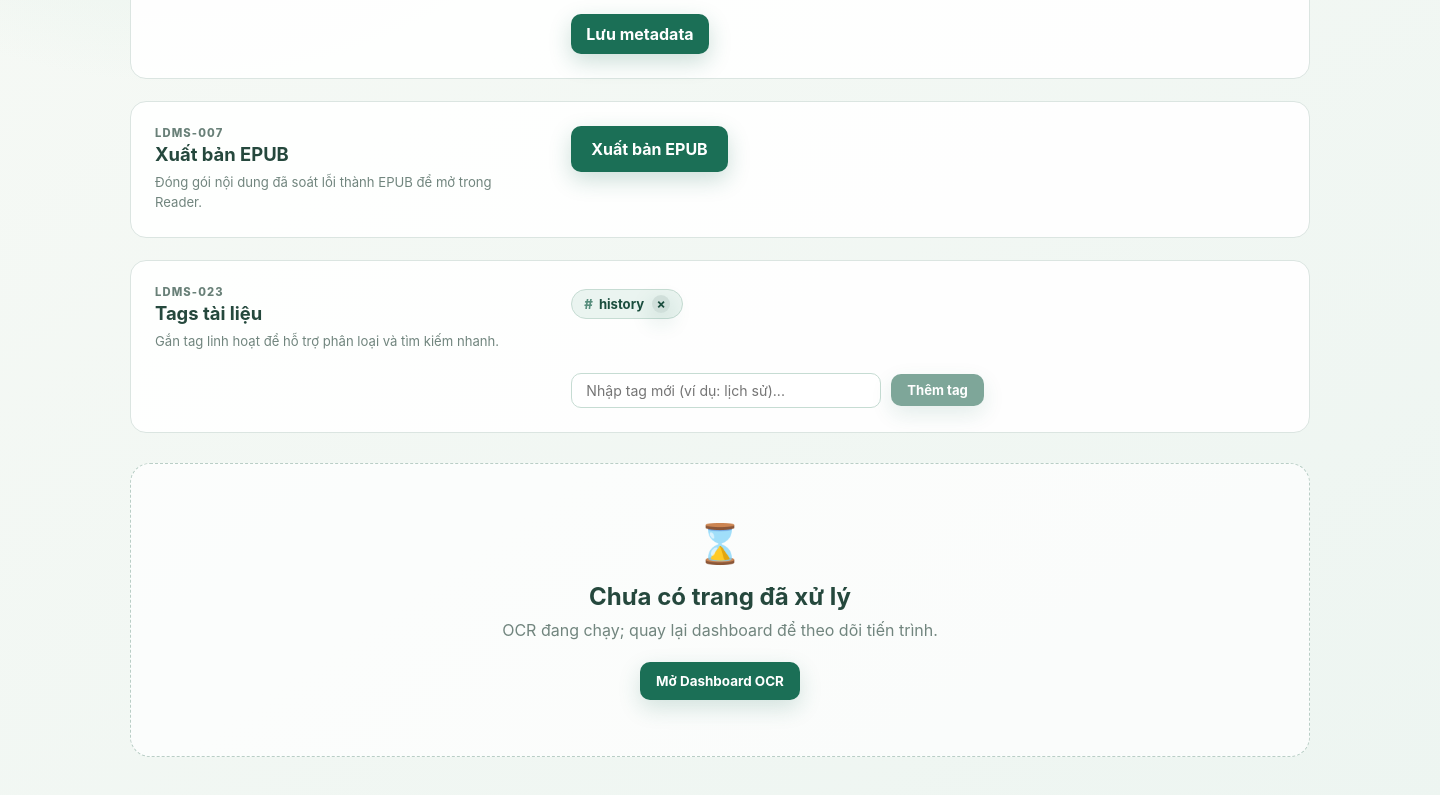
Scenario: DocumentViewerPage › allows adding and removing tags for authorized user (LDMS-023)
The width and height of the screenshot is (1440, 795).
(page scrolled)
Check: the text "history" is shown, box [599,296,644,312]
Type " Science " into the field with placeholder "Nhập tag mới (ví dụ: lịch sử)..." at (726, 390), box [571,373,881,408]
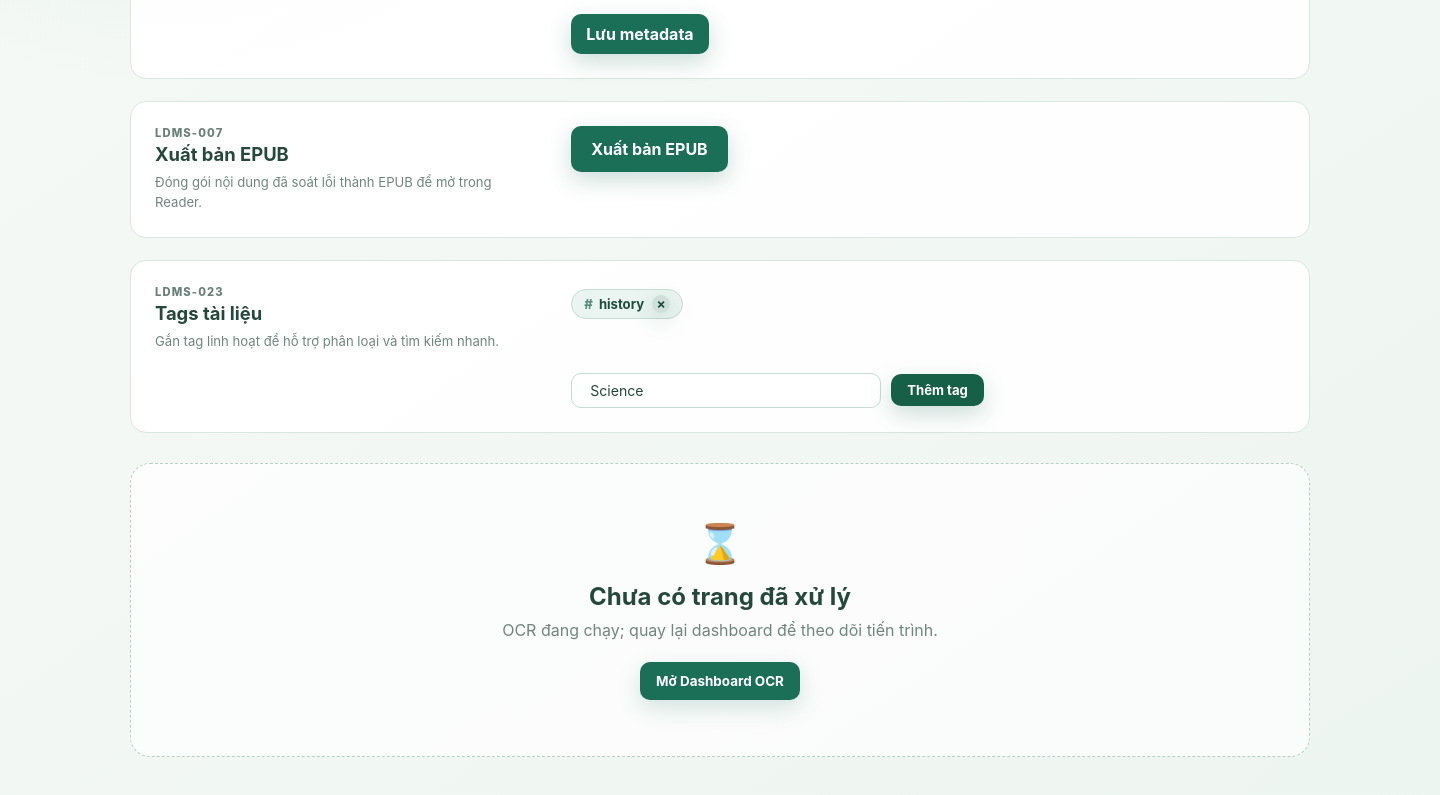
Click the button "Thêm tag" at (938, 390), box [891,374,984,406]
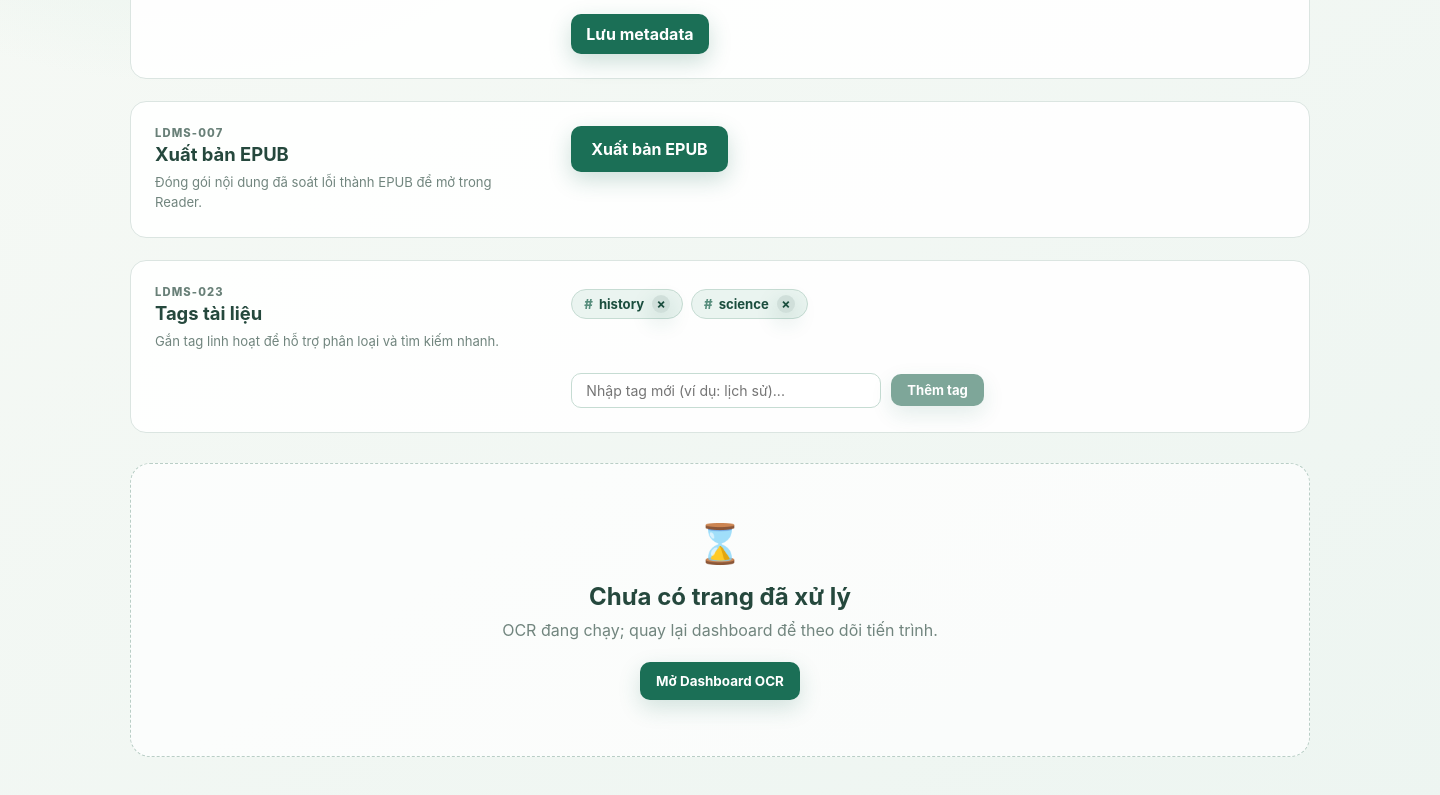
Check: the text "science" is shown, box [719,296,769,312]
Click the button named "Xóa tag history" at (661, 304), box [652,295,670,313]
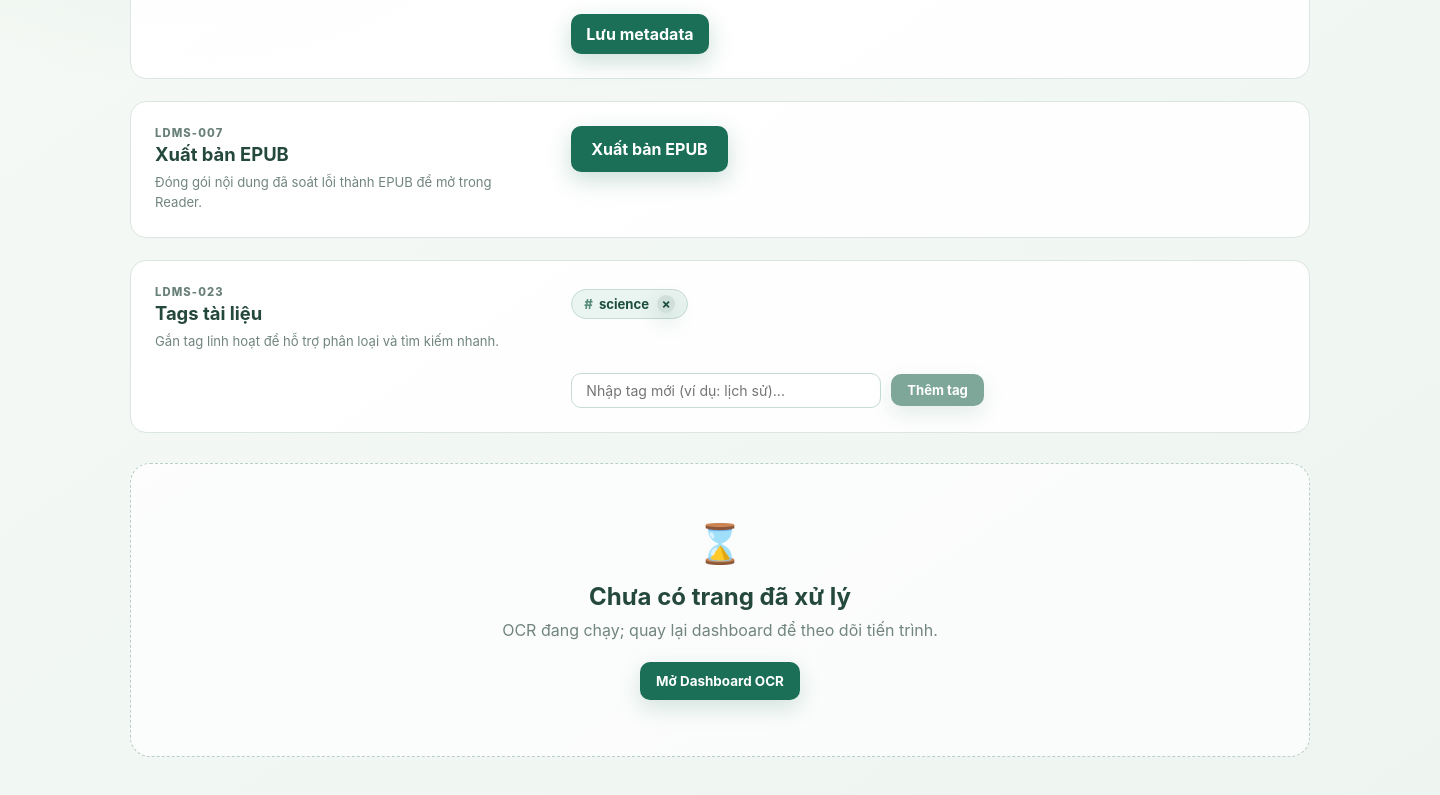
Check: the text "history" is gone
